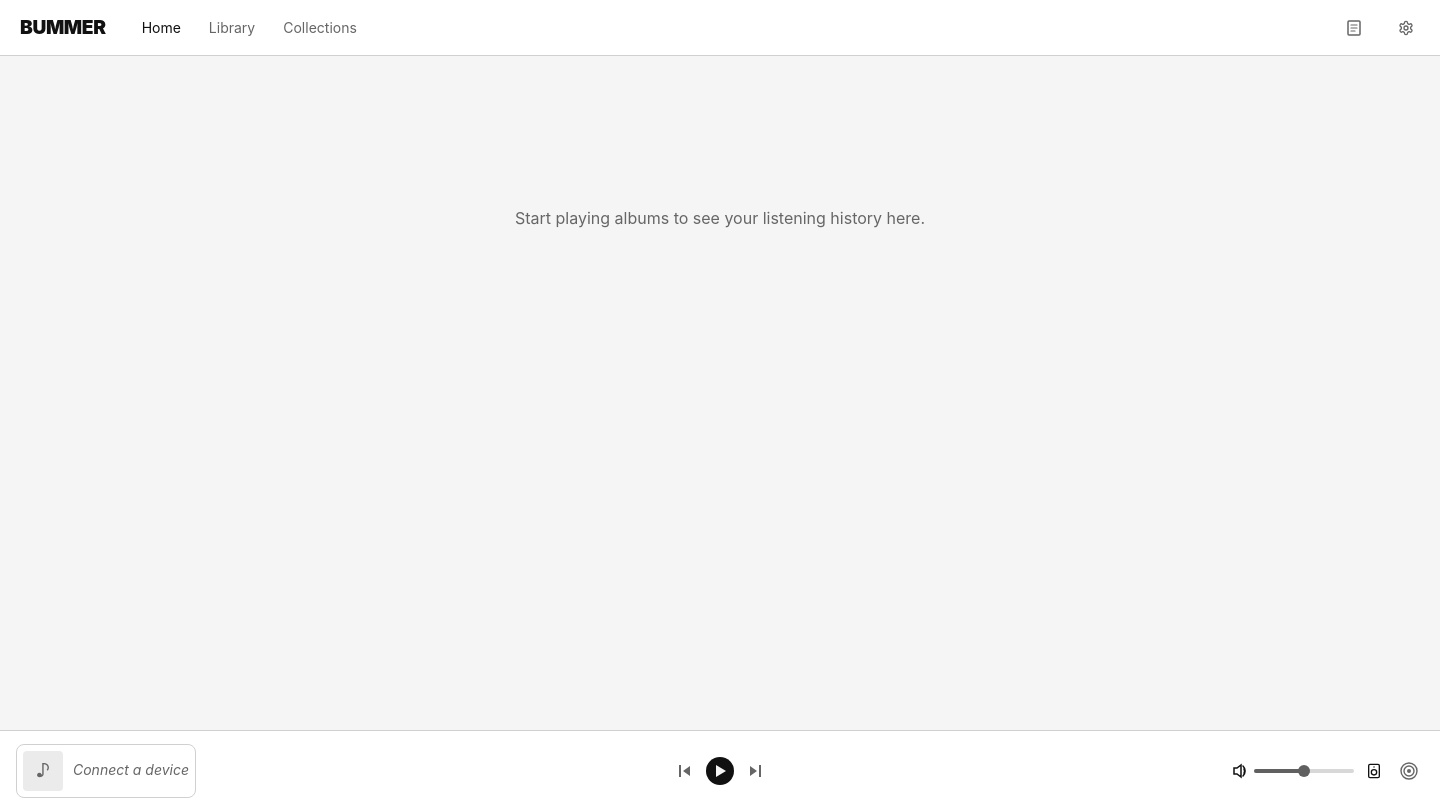
Test: App — library sync loop › drives a multi-page sync loop on cold start and renders synced albums
Note: Switch to Library view — the synced album should eventually appear.
Click the button "Library".
click(232, 28)  # box x1=197 y1=12 x2=267 y2=44
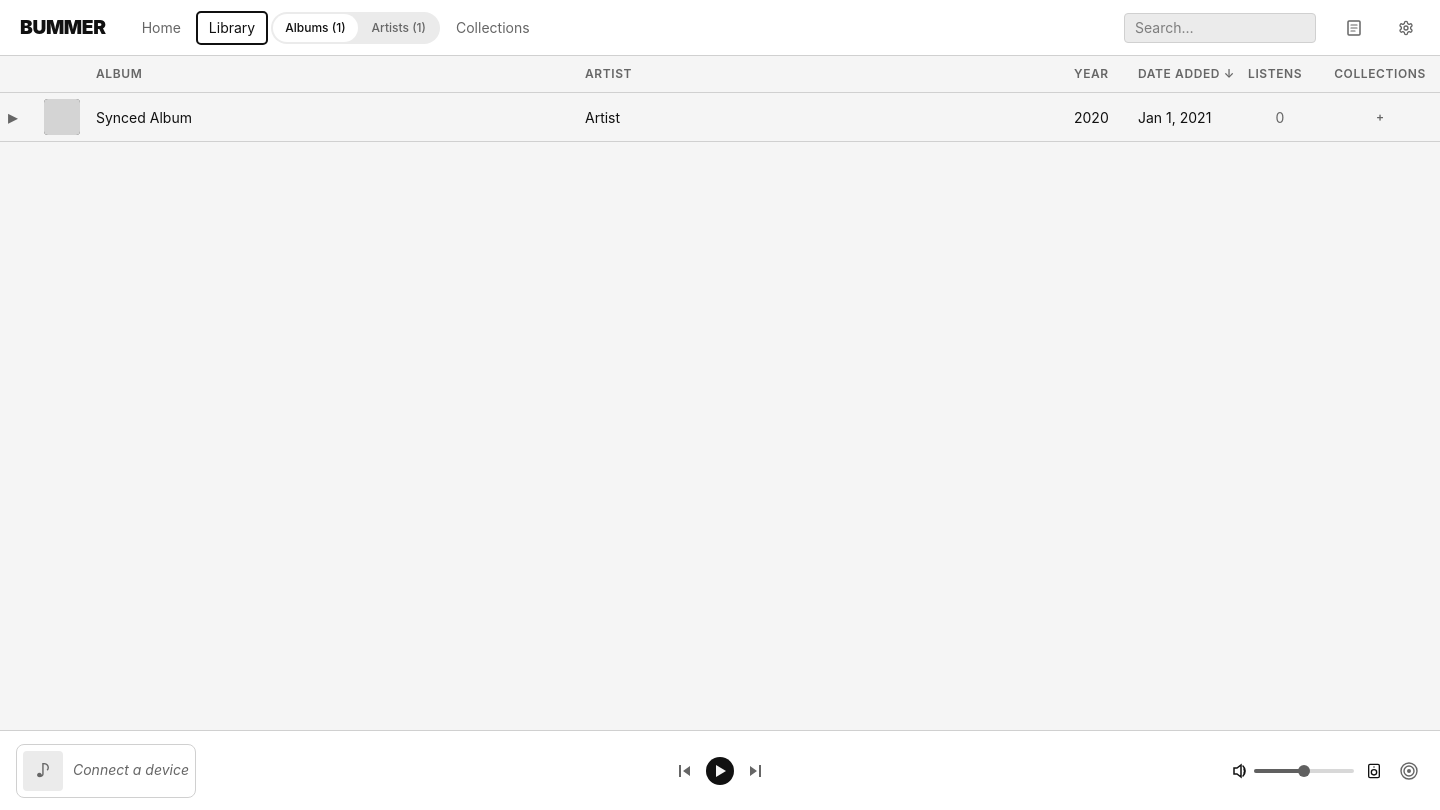
Expected: the text "Synced Album" is shown, x1=88 y1=92 x2=577 y2=142
